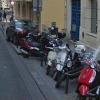Motorcycle: (41, 37, 100, 100)
